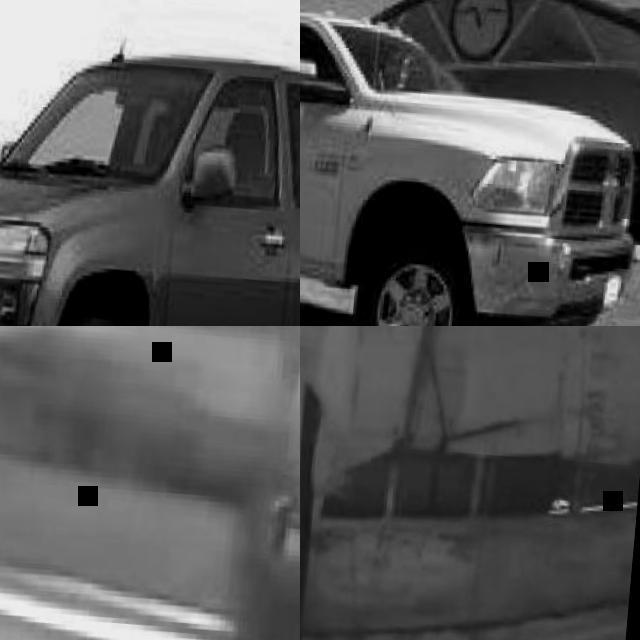car: (295, 0, 638, 320), (4, 1, 293, 324)
